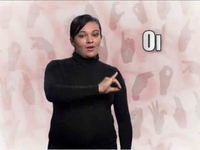oi: (92, 70, 125, 95)
